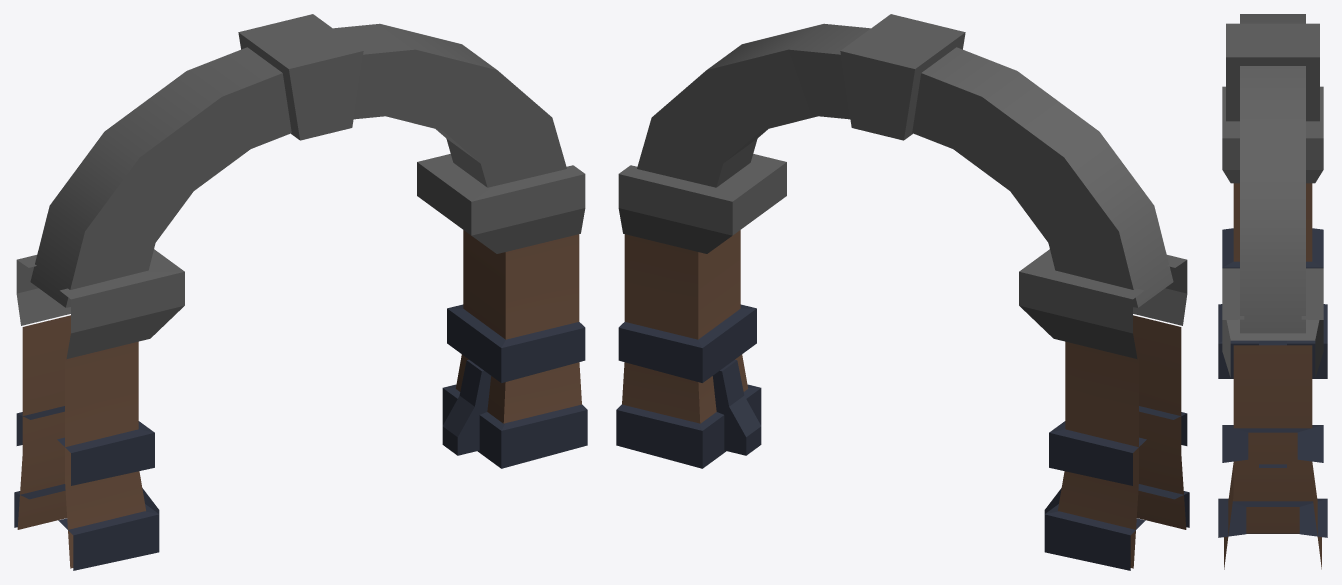
Rendered from Corridor_Arch.fbx.
The picture shows the model from 3 angles, left to right: view 1: azimuth 30°, elevation 25°; view 2: azimuth 150°, elevation 25°; view 3: azimuth 270°, elevation 25°; orthographic projection. The views are drawn at different scales.
Visible parts, largest first — view 1: Corridor_Arch; view 2: Corridor_Arch; view 3: Corridor_Arch.
Boxes of the visible parts, bbox=[...] form: Corridor_Arch: bbox=[14, 14, 587, 570]; Corridor_Arch: bbox=[616, 14, 1189, 570]; Corridor_Arch: bbox=[1218, 14, 1327, 569].
Bounding box in the file's own units: 6.72 × 5.59 × 1.33.
